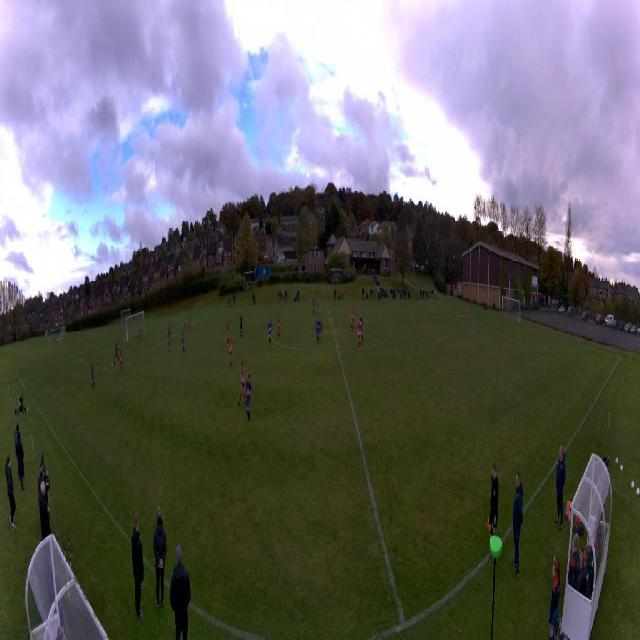ball: (111, 363, 113, 368)
player: (245, 372, 253, 423), (238, 359, 245, 406), (90, 363, 96, 391), (316, 317, 322, 344), (357, 320, 362, 350), (228, 335, 232, 366), (113, 345, 118, 367), (268, 319, 272, 345), (181, 328, 185, 354), (226, 320, 230, 346), (359, 315, 363, 341), (239, 313, 243, 338), (350, 307, 354, 331), (167, 331, 171, 355), (119, 348, 123, 370), (168, 322, 172, 341), (318, 317, 323, 332), (278, 314, 281, 338), (312, 297, 316, 315), (315, 300, 319, 316), (467, 307, 470, 325), (188, 315, 191, 332), (139, 323, 142, 340), (185, 316, 187, 333)
